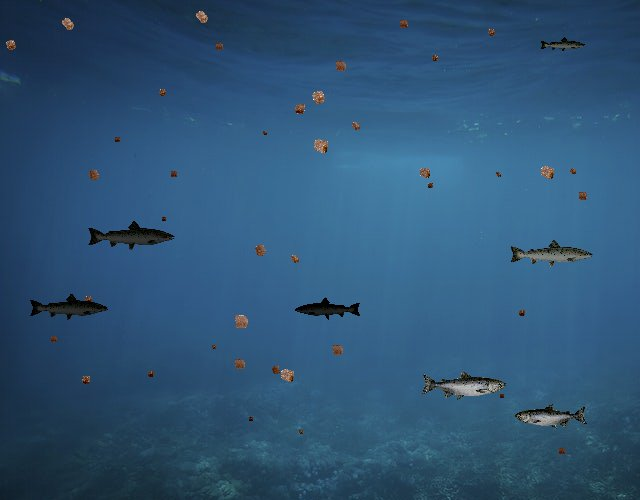Fish: (86, 220, 176, 252), (508, 238, 594, 269), (420, 370, 506, 401), (29, 293, 110, 322), (515, 404, 588, 430), (294, 296, 362, 321), (539, 37, 586, 54)
Pellet: (0, 34, 22, 56), (573, 187, 592, 206), (346, 117, 365, 136), (394, 15, 412, 33), (424, 179, 437, 192), (111, 134, 123, 146), (208, 341, 218, 352)
